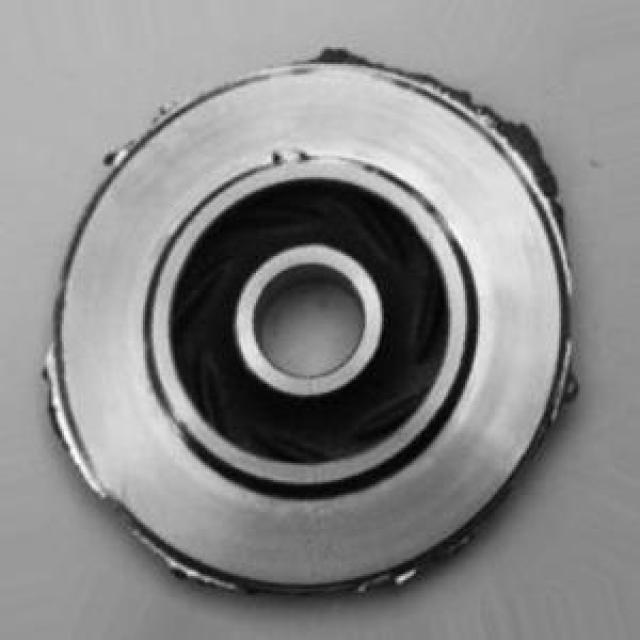Defect: (479, 96, 583, 210)
